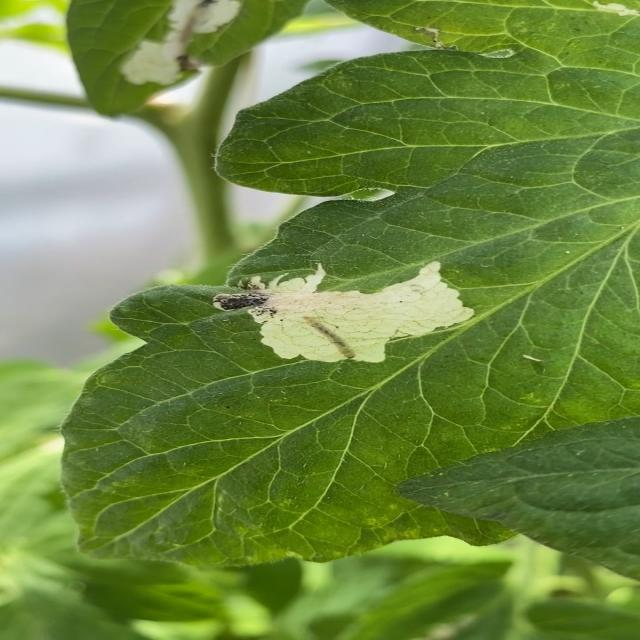Larvae: (302, 316, 356, 359)
